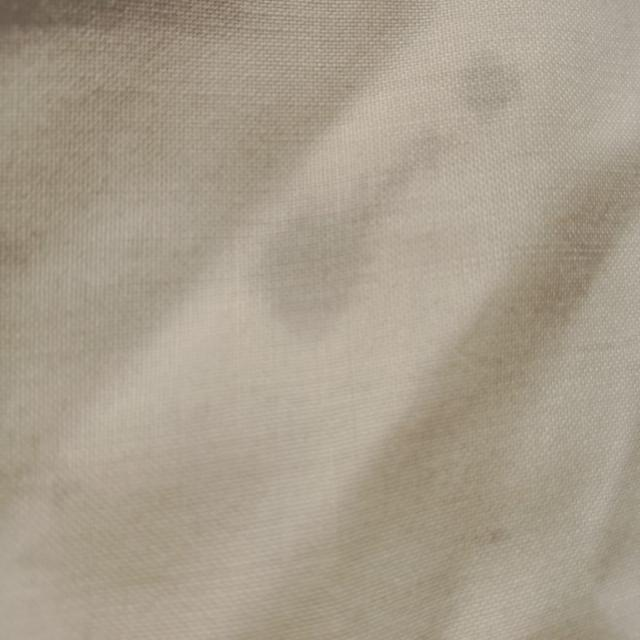stain: (238, 173, 376, 341), (443, 43, 524, 129)
